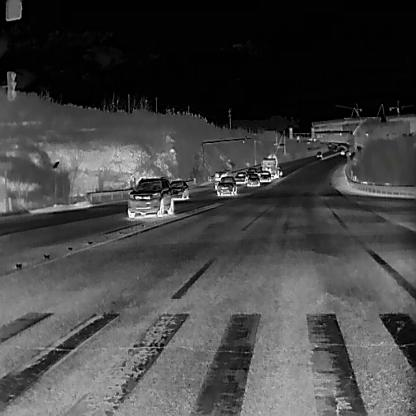car: (126, 175, 174, 217), (167, 179, 190, 200), (216, 175, 236, 195), (232, 170, 247, 184), (246, 172, 260, 186), (259, 170, 271, 183), (245, 166, 257, 178), (276, 165, 283, 176), (254, 167, 262, 176), (315, 150, 322, 158), (345, 149, 351, 155), (332, 146, 337, 151), (340, 149, 344, 154), (328, 142, 332, 146), (337, 142, 340, 146), (334, 145, 337, 148), (346, 140, 348, 144)
truck: (260, 152, 279, 179), (213, 169, 233, 189), (352, 144, 357, 149)
